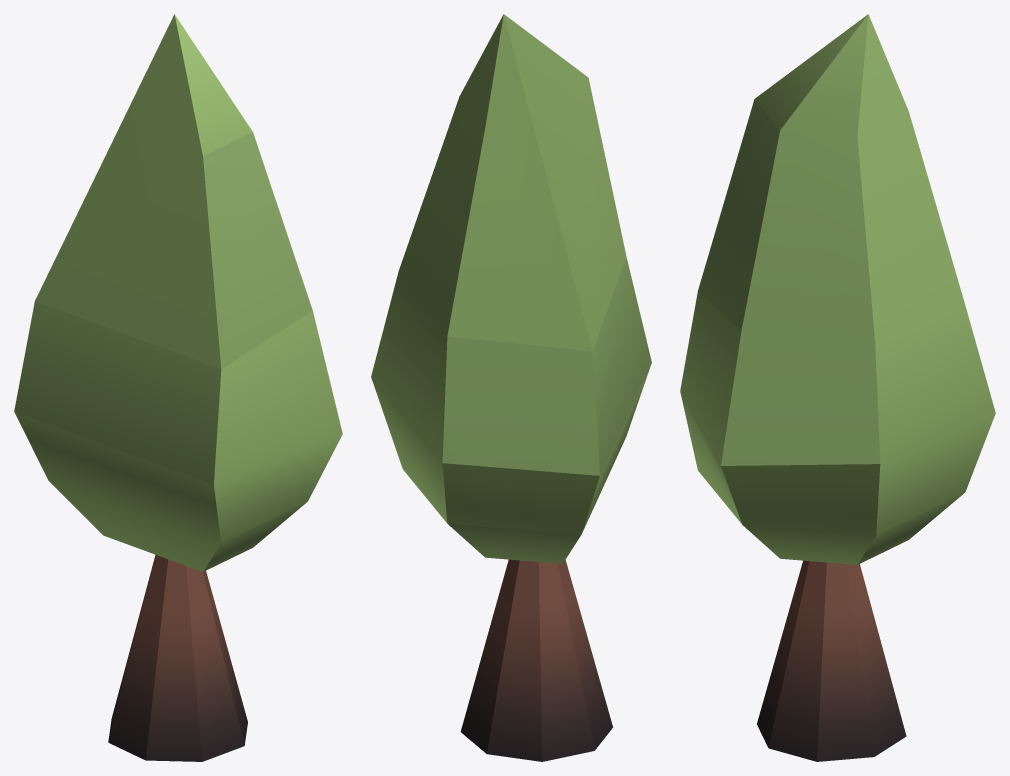
The model's file is smalltree.fbx.
The picture shows the model from 3 angles, left to right: view 1: azimuth 30°, elevation 25°; view 2: azimuth 150°, elevation 25°; view 3: azimuth 270°, elevation 25°; orthographic projection. The views are drawn at different scales.
Parts seen in each view (by area): view 1: polySurface41; view 2: polySurface41; view 3: polySurface41.
Part boxes in pixels (x1,y1,x2,y2): polySurface41: (14, 14, 342, 761); polySurface41: (371, 14, 651, 761); polySurface41: (680, 14, 995, 761).
Size of the model in its own units: 9.79 by 26.33 by 10.41.
